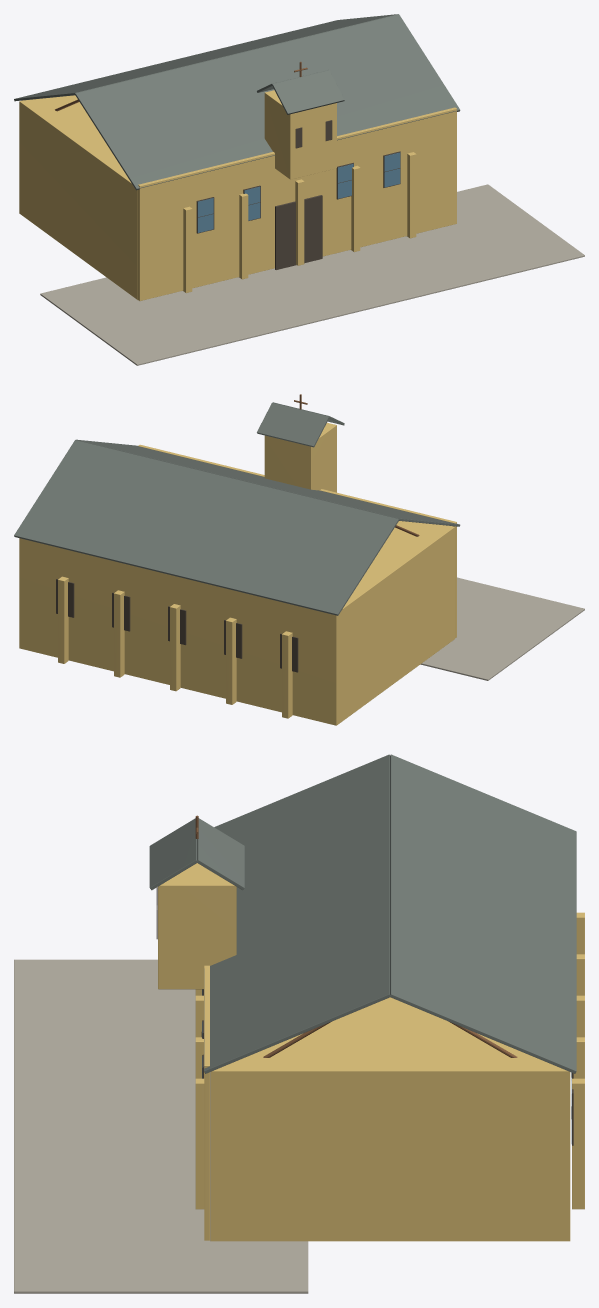
File: cathedrale_sainte_marie_libreville.glb
3 renders of one model, top to bottom at view 1: azimuth 30°, elevation 25°; view 2: azimuth 150°, elevation 25°; view 3: azimuth 270°, elevation 25°, orthographic. The views are drawn at different scales.
Visible parts, largest first — view 1: Parvis, Toiture_nef, Facade_frontale, Nef, Tour_clocher, Toiture_nef.001, Portail_principal, Toit_clocher, Contrefort.004, Contrefort.001, Contrefort, Contrefort.003 (+4 smaller); view 2: Nef, Toiture_nef.001, Parvis, Tour_clocher, Toiture_nef, Toit_clocher.001, Facade_frontale, Contrefort.008, Contrefort.005, Contrefort.007, Contrefort.006, Contrefort.009; view 3: Nef, Parvis, Toiture_nef.001, Toiture_nef, Tour_clocher, Toit_clocher, Toit_clocher.001, Contrefort.009, Facade_frontale, Contrefort.004.
Boxes of the visible parts, x1=… form: Parvis: x1=40, y1=184, x2=584, y2=365; Toiture_nef: x1=75, y1=14, x2=460, y2=190; Facade_frontale: x1=138, y1=107, x2=456, y2=300; Nef: x1=19, y1=95, x2=137, y2=299; Tour_clocher: x1=264, y1=90, x2=336, y2=179; Toiture_nef.001: x1=14, y1=14, x2=398, y2=101; Portail_principal: x1=275, y1=195, x2=322, y2=269; Toit_clocher: x1=272, y1=70, x2=344, y2=114; Contrefort.004: x1=407, y1=152, x2=416, y2=238; Contrefort.001: x1=239, y1=193, x2=248, y2=279; Contrefort: x1=183, y1=206, x2=192, y2=292; Contrefort.003: x1=351, y1=165, x2=360, y2=251; Nef: x1=19, y1=521, x2=454, y2=725; Toiture_nef.001: x1=14, y1=440, x2=398, y2=615; Parvis: x1=420, y1=577, x2=584, y2=680; Tour_clocher: x1=264, y1=422, x2=336, y2=492; Toiture_nef: x1=76, y1=439, x2=460, y2=526; Toit_clocher.001: x1=257, y1=403, x2=329, y2=447; Facade_frontale: x1=138, y1=444, x2=456, y2=638; Contrefort.008: x1=114, y1=590, x2=124, y2=677; Contrefort.005: x1=282, y1=631, x2=292, y2=718; Contrefort.007: x1=170, y1=604, x2=180, y2=691; Contrefort.006: x1=226, y1=617, x2=236, y2=704; Contrefort.009: x1=58, y1=576, x2=68, y2=663; Nef: x1=210, y1=997, x2=570, y2=1241; Parvis: x1=14, y1=959, x2=308, y2=1293; Toiture_nef.001: x1=390, y1=754, x2=576, y2=1073; Toiture_nef: x1=204, y1=754, x2=390, y2=1073; Tour_clocher: x1=158, y1=863, x2=236, y2=989; Toit_clocher: x1=149, y1=818, x2=197, y2=890; Toit_clocher.001: x1=197, y1=818, x2=244, y2=890; Contrefort.009: x1=572, y1=1078, x2=584, y2=1209; Facade_frontale: x1=204, y1=965, x2=209, y2=1240; Contrefort.004: x1=195, y1=1078, x2=204, y2=1209.
Size of the model in its own units: 48 by 21 by 34.9.
